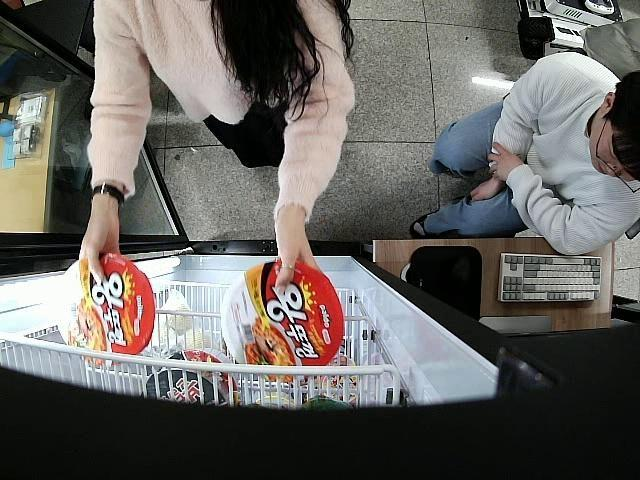10_wangTtukkeong: (220, 260, 345, 367), (56, 254, 154, 369)
